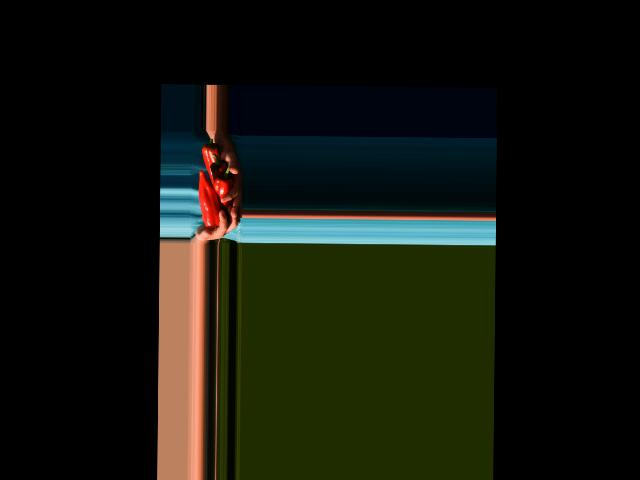bell_pepper: (201, 138, 222, 175)
